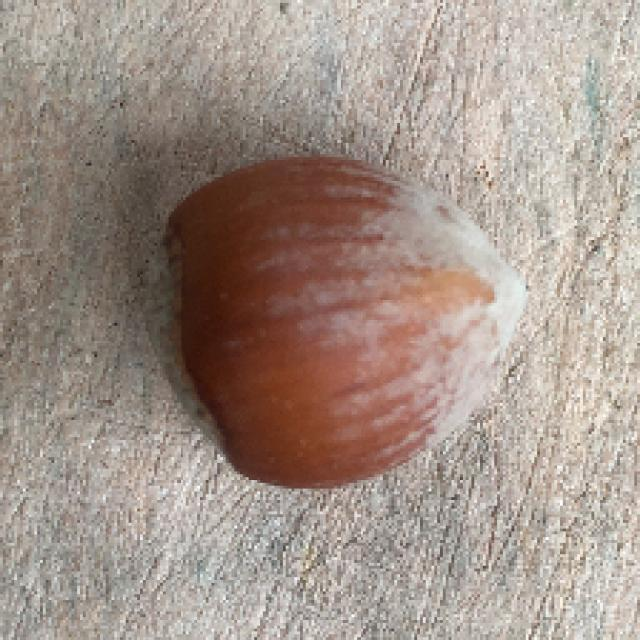hazelnut: (152, 142, 538, 498)
